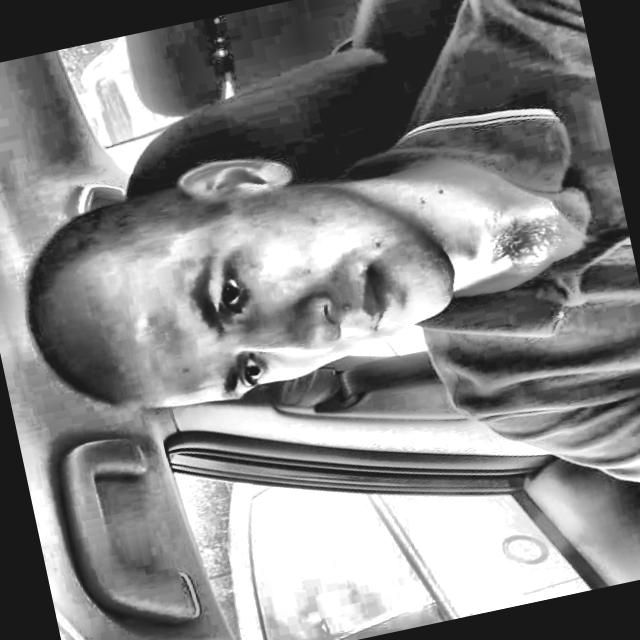closed_mouth: (348, 249, 416, 345)
open_eyes: (200, 254, 264, 326), (228, 343, 284, 402)
